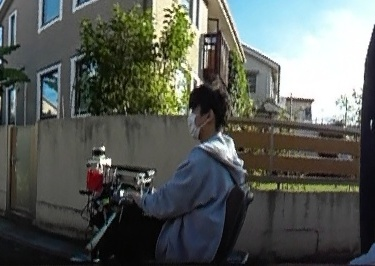person: (135, 84, 248, 266)
